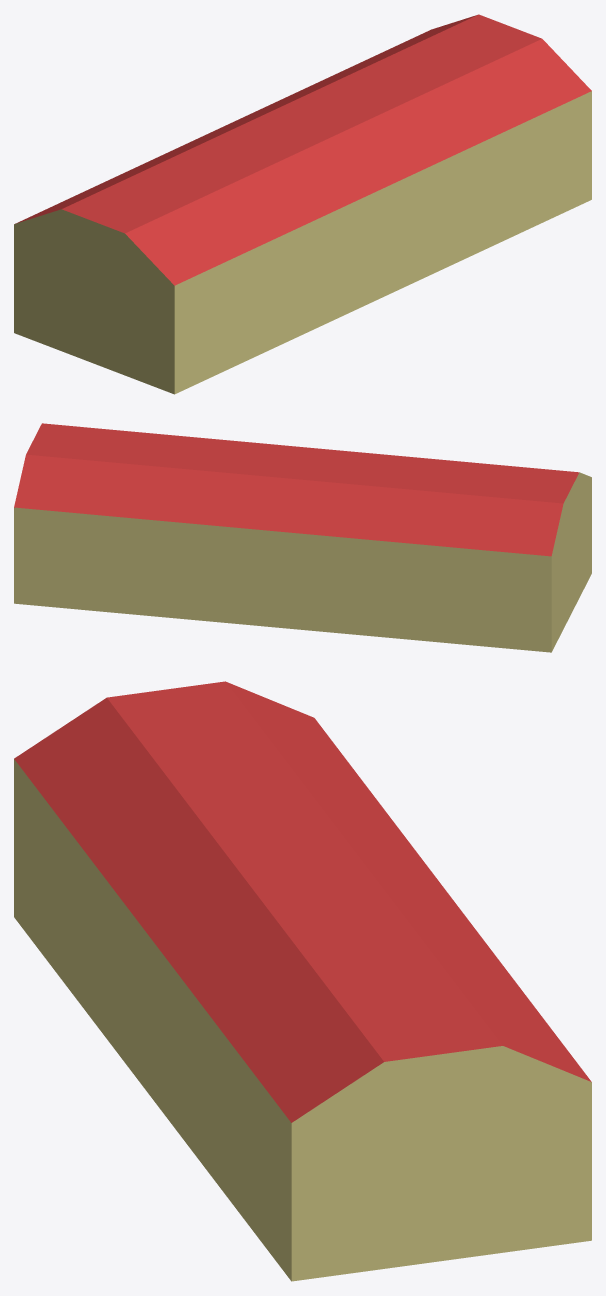
3 renders of one model, top to bottom at view 1: azimuth 30°, elevation 25°; view 2: azimuth 150°, elevation 25°; view 3: azimuth 270°, elevation 25°, orthographic. The views are drawn at different scales.
Bounding box in the file's own units: 32.53 × 19.61 × 7.74.
